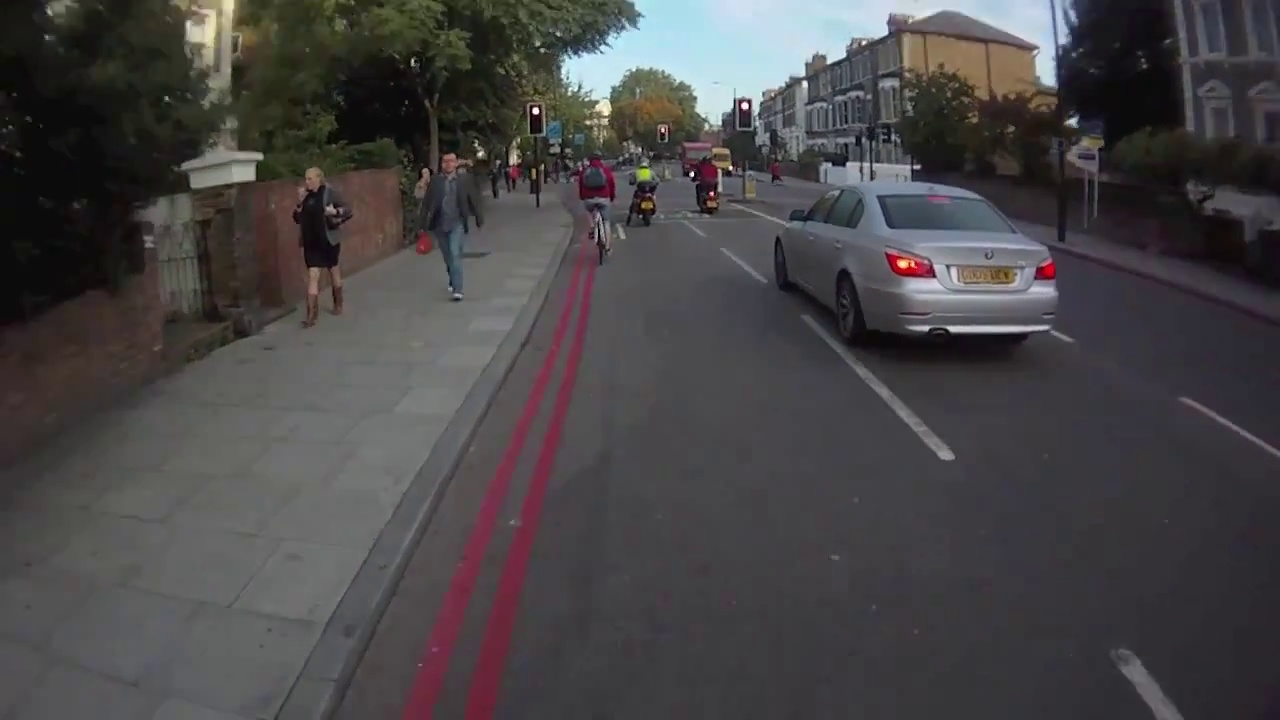cyclist_back: (579, 153, 622, 269), (630, 156, 663, 230), (694, 151, 724, 216)
